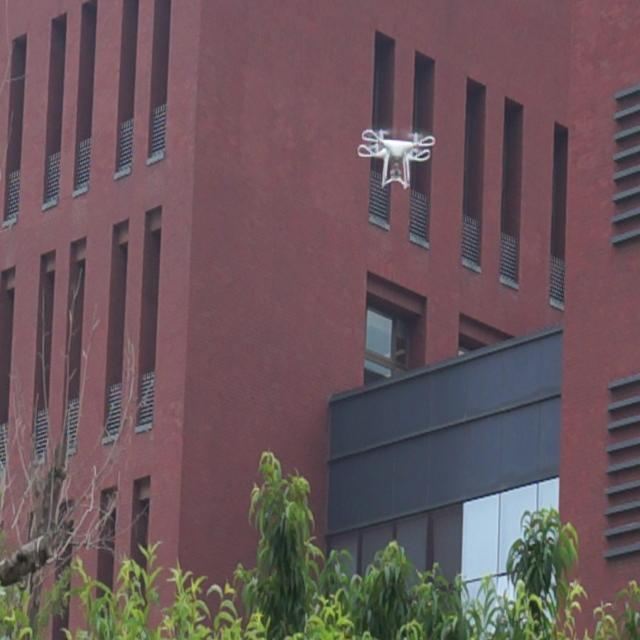drone: (357, 125, 435, 202)
